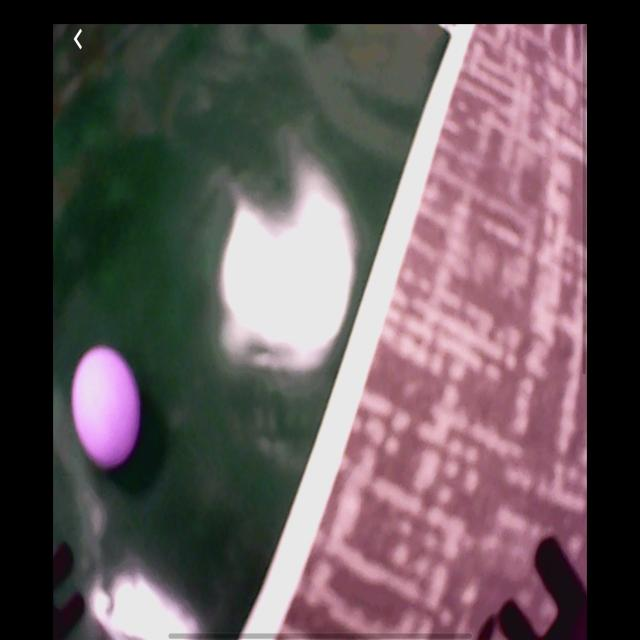ball: (73, 349, 141, 468)
